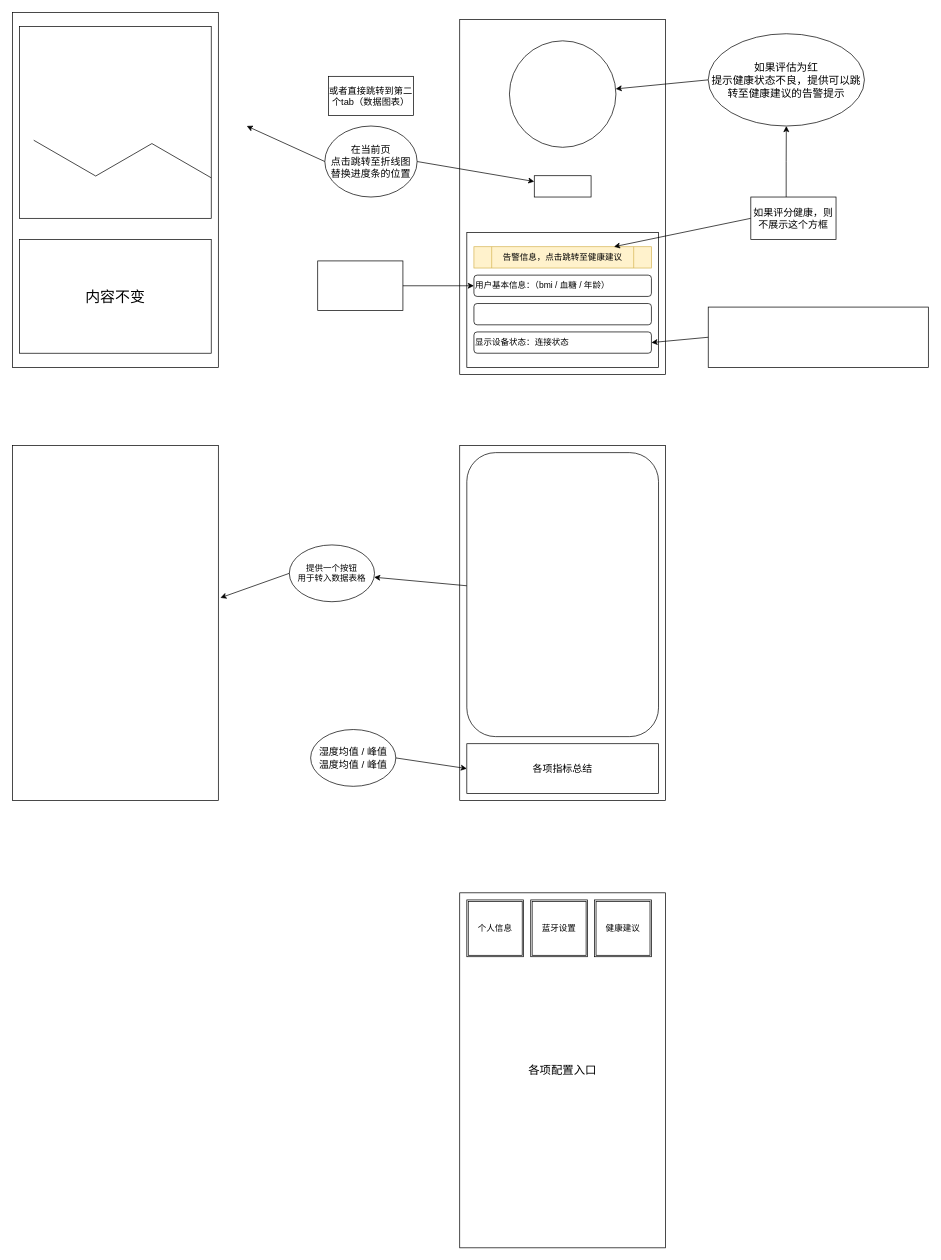
This 941x1260 diagram has some shape labels left out. Here are the shapes that lost their labels. From the top down, the centre of each, then its label:
At pixel 562 93: "环形进度条 显示健康评估分数".
At pixel 115 122: "散点/折线图 异常数据特殊显示（使用不同颜色）".
At pixel 562 186: "健康数据详情".
At pixel 360 285: "作为评分的参数，由用户自己填入或者管理员上传".
At pixel 562 314: "显示设备名称：修改配置（点击配置设备）".
At pixel 818 336: "未连接：两只鞋子都没连接，标 灰色 x鞋未连接：只连接了一只鞋子，标 红色 已经连接：全部连接，标 绿色 在非连接状态下点击该栏进入蓝牙配置页面".
At pixel 562 594: "折线 / 散点图 异常数据特殊显示（使用不同颜色）".
At pixel 115 623: "是一个表格，共四栏 1. 时间（日） 2. 温度（均值） 3. 湿度（均值） 4. 压力（均值）".
